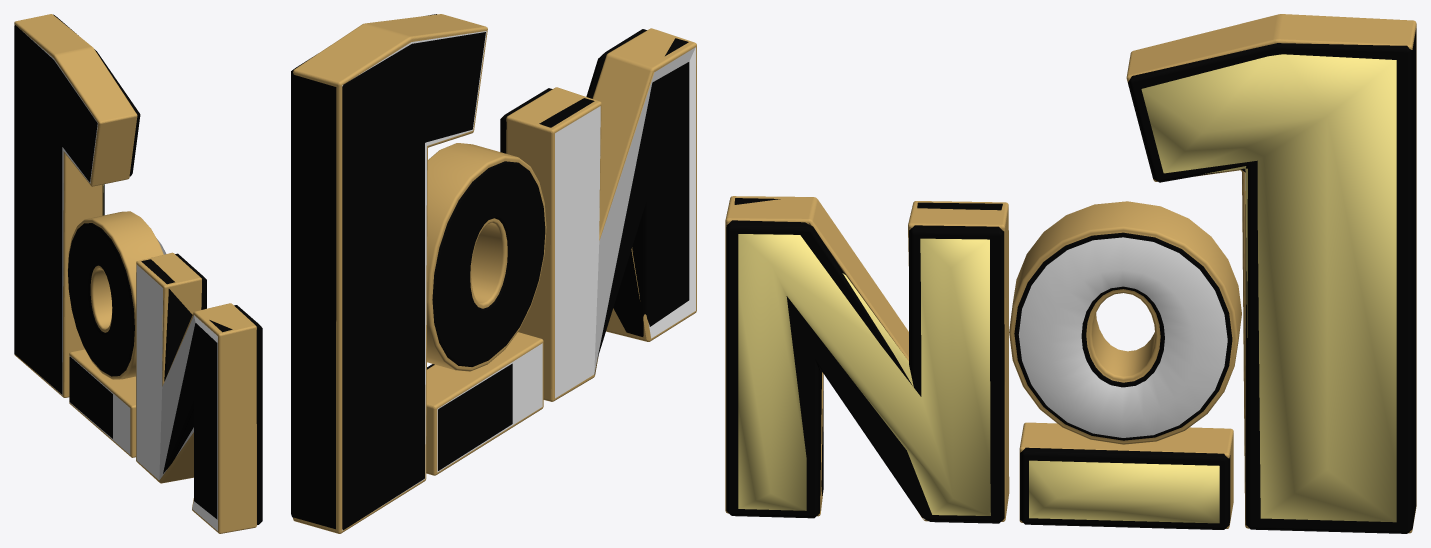
Rendered from digit-3.glb.
3 views of the same model, side by side, from view 1: azimuth 30°, elevation 25°; view 2: azimuth 150°, elevation 25°; view 3: azimuth 270°, elevation 25° (orthographic). The views are drawn at different scales.
Visible parts, largest first — view 1: gold outside.002, gold outside.001, gold outside.004; view 2: gold outside.002, gold outside.001, gold outside.004; view 3: gold outside.003, gold outside.002, gold outside.004, gold outside.001.
Part boxes in pixels (x1,y1,x2,y2): gold outside.002: (14,14,262,524); gold outside.001: (14,14,256,533); gold outside.004: (67,211,166,379); gold outside.002: (291,14,689,529); gold outside.001: (293,14,696,533); gold outside.004: (427,143,546,371); gold outside.003: (738,54,1396,523); gold outside.002: (726,28,1416,533); gold outside.004: (1009,201,1241,444); gold outside.001: (725,14,1416,533).
Bounding box in the file's own units: 1.06 × 4.33 × 5.5.
